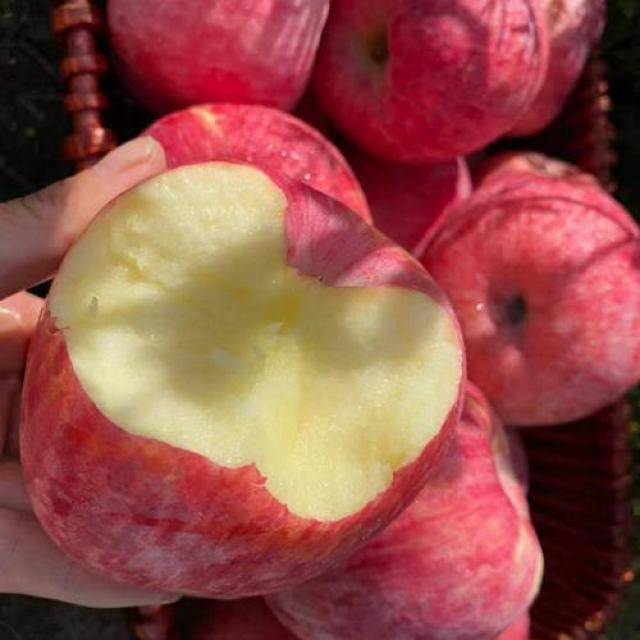Apple: (20, 175, 460, 597)
